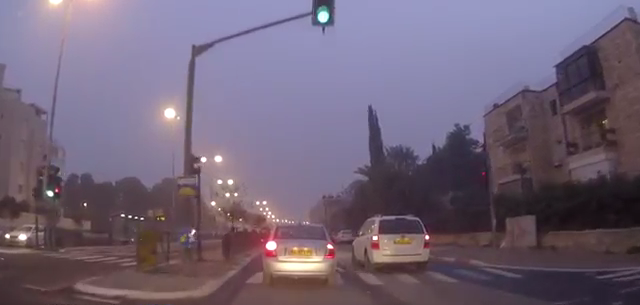car: (259, 222, 337, 288), (352, 213, 430, 272), (3, 222, 53, 248), (335, 228, 356, 243)
